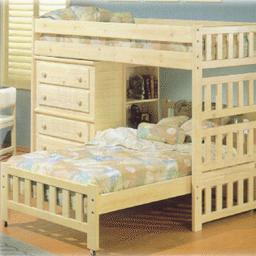Cama: (6, 125, 254, 235)
